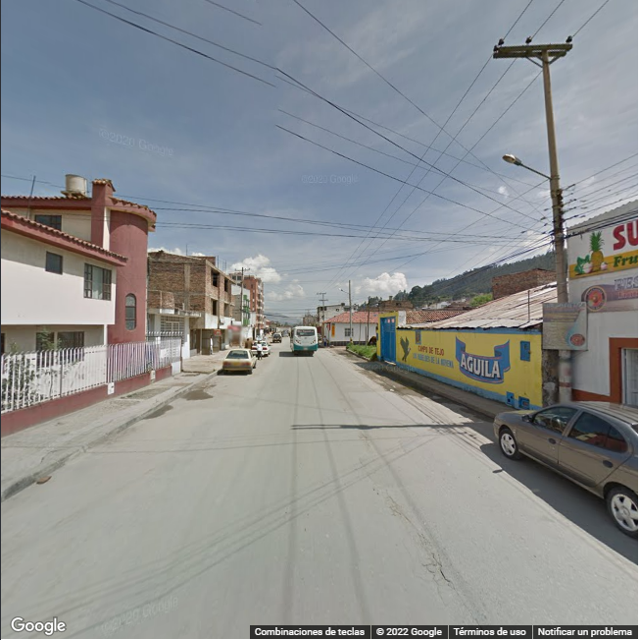D00: (430, 556, 478, 615), (389, 505, 430, 548), (427, 559, 445, 617)
